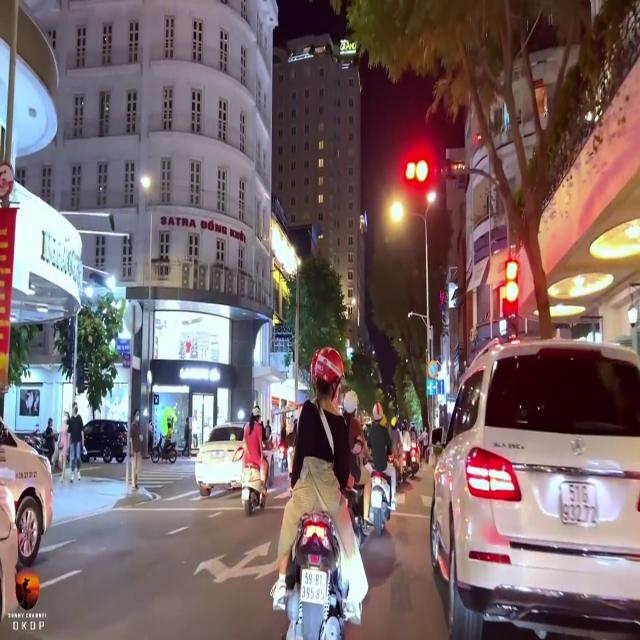bien_trang: (558, 480, 600, 527), (299, 564, 328, 605)
